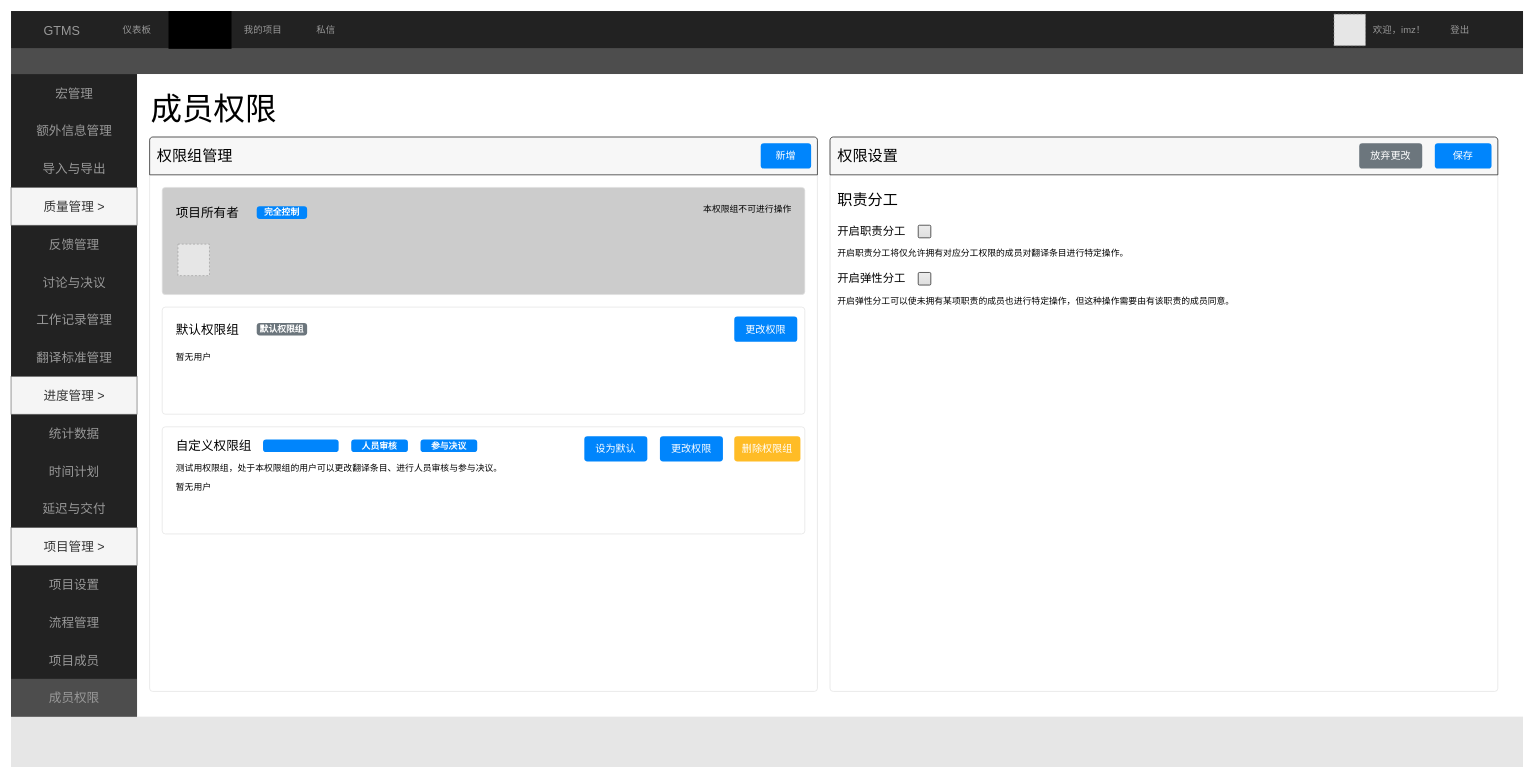
The diagram is 1534 pixels wide and 777 high, and some of its shapes have lost their labels. Grey dashed boxes stand in for pictures. The shapes that lost their labels are listed below. From the top down, each one's box as (x1, y1, x2, y2) in pixels, then its label:
(168, 11, 231, 49): 项目浏览
(11, 49, 1523, 74): 示例中文化项目01 / 成员权限
(263, 439, 338, 452): 更改翻译条目
(11, 716, 1523, 767): Yifan Xu 毕业设计 @天津工业大学
